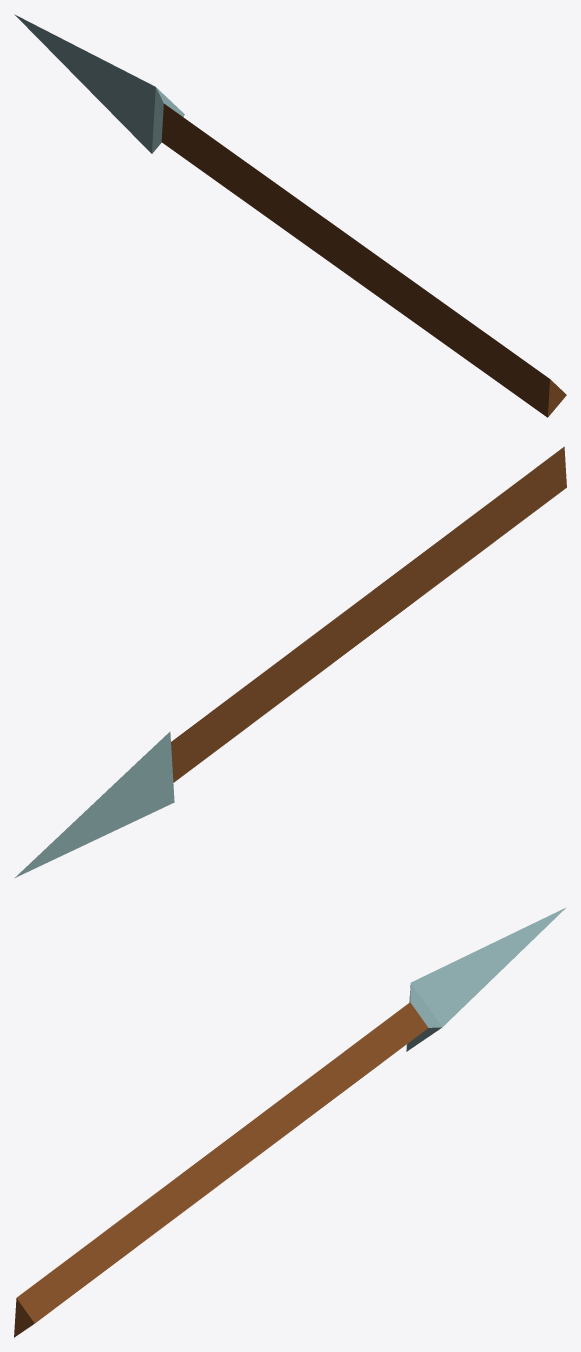
The model's file is SpearModel.fbx.
The picture shows the model from 3 angles, top to bottom: view 1: azimuth 30°, elevation 25°; view 2: azimuth 150°, elevation 25°; view 3: azimuth 330°, elevation 25°; orthographic projection. The views are drawn at different scales.
Parts seen in each view (by area): view 1: Куб.005; view 2: Куб.005; view 3: Куб.005.
Boxes of the visible parts, bbox=[...] form: Куб.005: bbox=[14, 14, 566, 417]; Куб.005: bbox=[14, 446, 566, 878]; Куб.005: bbox=[14, 907, 566, 1337].
Size of the model in its own units: 6.11 by 11.51 by 166.
